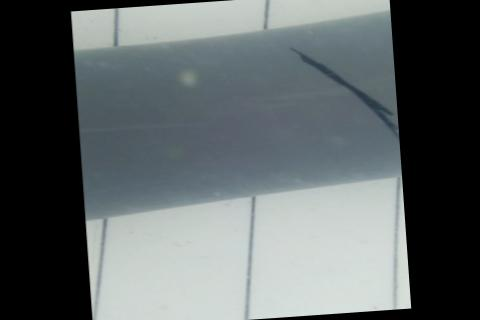keretakan: (283, 37, 399, 148)
